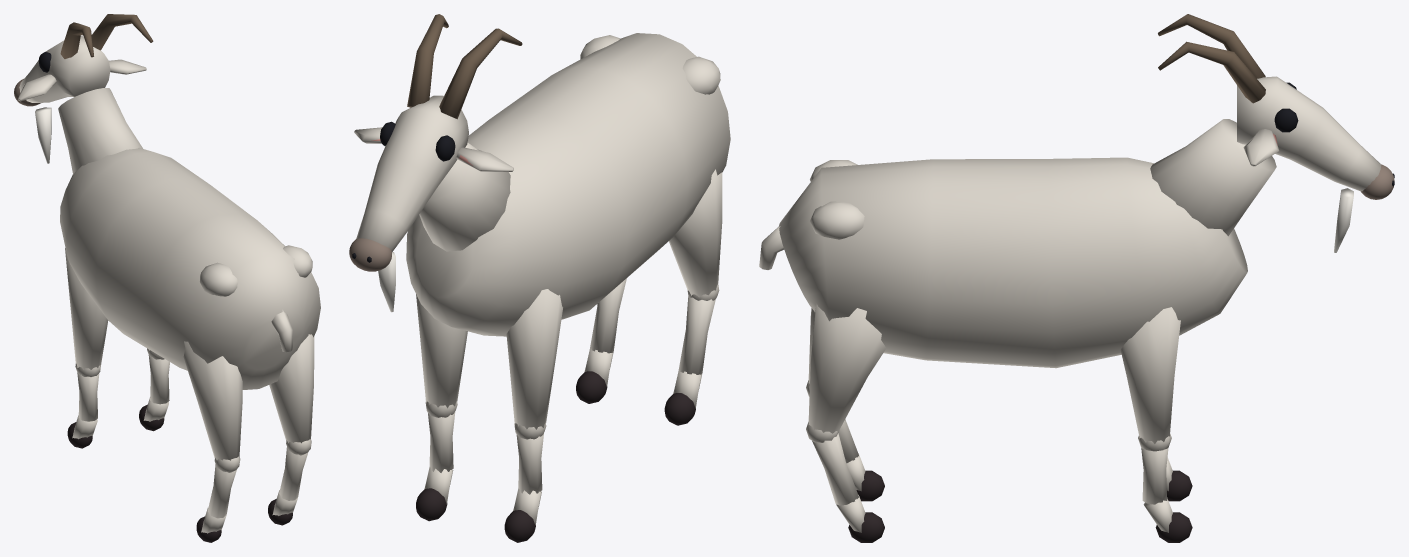
The model's file is beast_goat.glb.
3 views of the same model, side by side, from view 1: azimuth 30°, elevation 25°; view 2: azimuth 150°, elevation 25°; view 3: azimuth 270°, elevation 25° (orthographic). The views are drawn at different scales.
Parts seen in each view (by area): view 1: body, head, leg_br, neck, leg_bl, leg_fr, shin_bl, shin_br, shin_fr, shin_fl, ear_r, tail (+1 smaller); view 2: body, head, leg_fr, neck, leg_br, leg_fl, shin_br, shin_bl, shin_fr, shin_fl, ear_r; view 3: body, head, neck, leg_bl, leg_fl, shin_bl, shin_fl, shin_br, ear_l, shin_fr.
Part boxes in pixels (left/top/right/bottom): body: left=60, top=147, right=320, bottom=389; head: left=14, top=14, right=153, bottom=163; leg_br: left=183, top=341, right=242, bottom=472; neck: left=58, top=88, right=142, bottom=174; leg_bl: left=269, top=334, right=314, bottom=455; leg_fr: left=65, top=248, right=108, bottom=376; shin_bl: left=268, top=447, right=308, bottom=525; shin_br: left=196, top=464, right=236, bottom=542; shin_fr: left=67, top=372, right=99, bottom=448; shin_fl: left=139, top=355, right=169, bottom=431; ear_r: left=18, top=74, right=56, bottom=101; tail: left=271, top=310, right=292, bottom=352; body: left=406, top=33, right=730, bottom=336; head: left=349, top=14, right=522, bottom=312; leg_fr: left=506, top=289, right=562, bottom=439; neck: left=419, top=142, right=510, bottom=251; leg_br: left=669, top=169, right=722, bottom=300; leg_fl: left=416, top=294, right=467, bottom=417; shin_br: left=664, top=296, right=715, bottom=425; shin_bl: left=576, top=278, right=626, bottom=403; shin_fr: left=504, top=433, right=543, bottom=542; shin_fl: left=416, top=411, right=455, bottom=521; ear_r: left=456, top=147, right=513, bottom=171; body: left=779, top=157, right=1247, bottom=368; head: left=1158, top=14, right=1394, bottom=252; neck: left=1150, top=119, right=1276, bottom=236; leg_bl: left=806, top=304, right=886, bottom=442; leg_fl: left=1120, top=307, right=1180, bottom=451; shin_bl: left=812, top=433, right=884, bottom=542; shin_fl: left=1141, top=448, right=1192, bottom=542; shin_br: left=838, top=419, right=884, bottom=501; ear_l: left=1243, top=129, right=1279, bottom=166; shin_fr: left=1166, top=457, right=1192, bottom=501.
Bounding box in the file's own units: 0.48 × 1.33 × 1.55.
